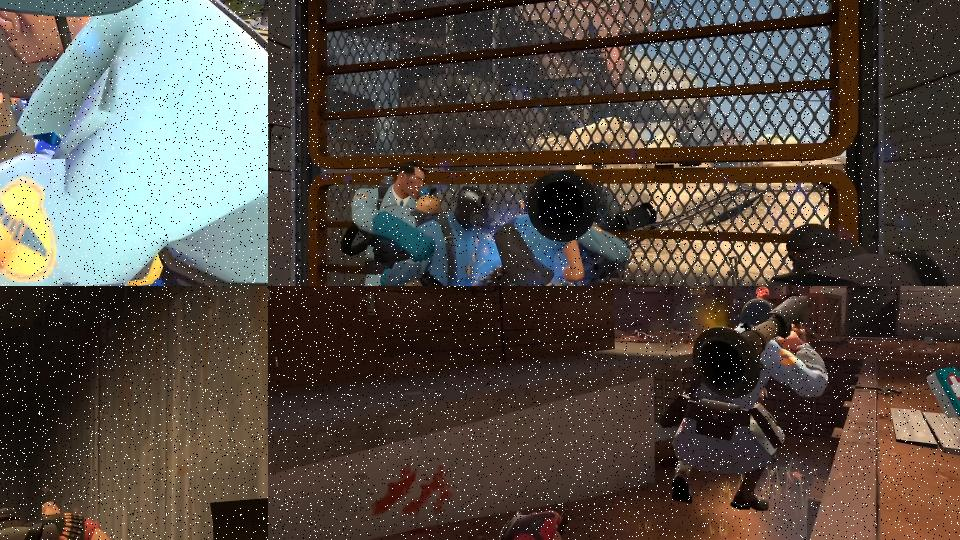Enemy: (0, 0, 268, 286), (664, 286, 842, 515), (710, 225, 960, 286), (323, 160, 435, 286), (388, 187, 499, 286), (25, 500, 116, 540), (483, 501, 575, 540)
